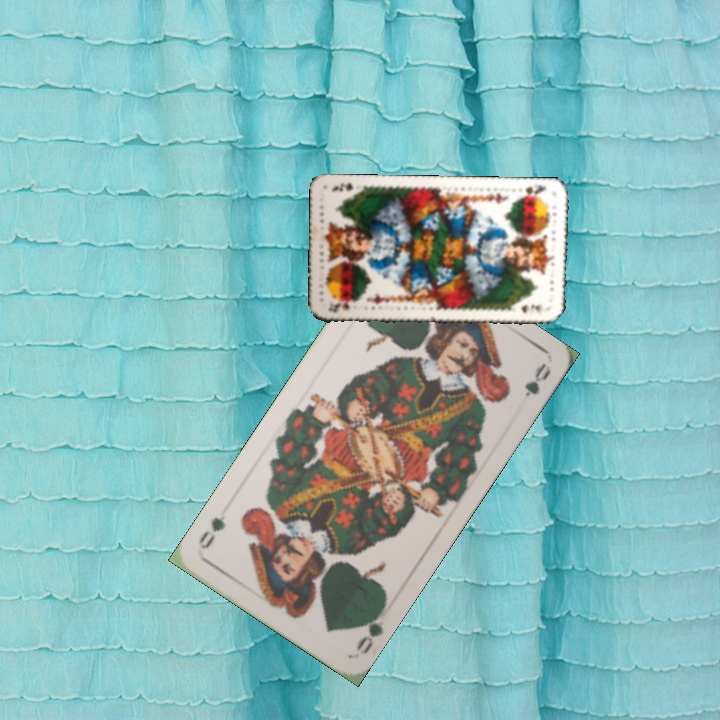GO: (351, 602, 388, 657)
SK: (515, 180, 549, 200), (324, 298, 353, 315)
